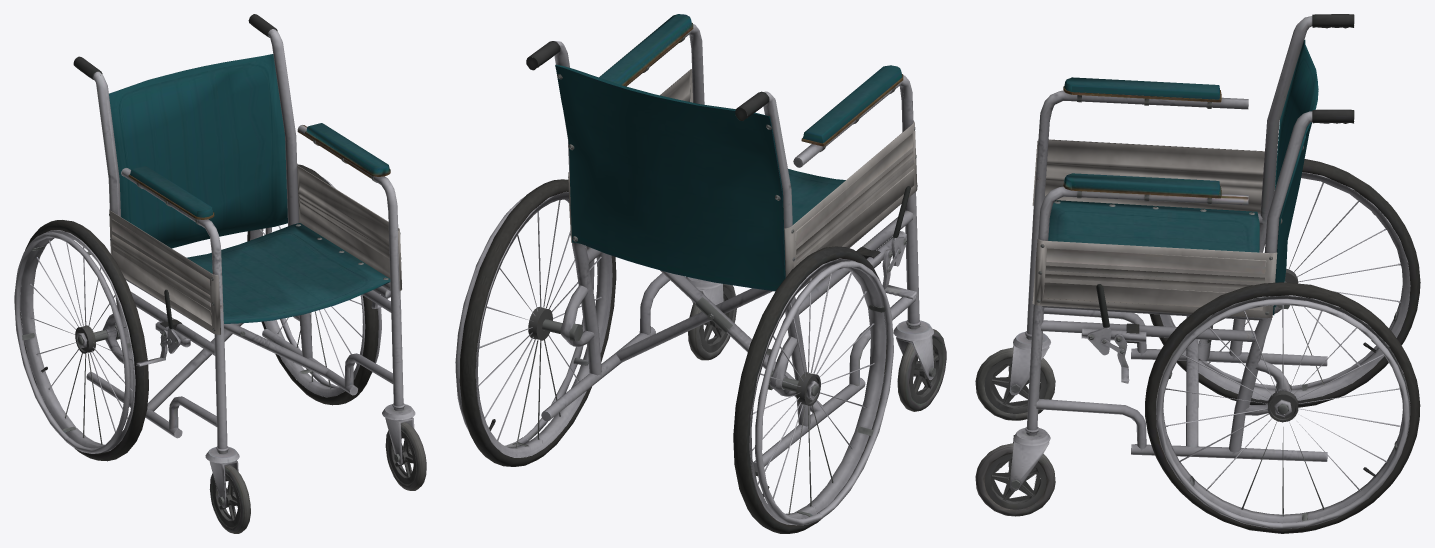
The model's file is wheelchair_01.glb.
3 views of the same model, side by side, from view 1: azimuth 30°, elevation 25°; view 2: azimuth 150°, elevation 25°; view 3: azimuth 270°, elevation 25° (orthographic). The views are drawn at different scales.
Visible parts, largest first — view 1: wheelchair_01; view 2: wheelchair_01; view 3: wheelchair_01.
Part boxes in pixels (x1,y1,x2,y2): wheelchair_01: (14, 14, 426, 533); wheelchair_01: (455, 14, 946, 533); wheelchair_01: (975, 14, 1420, 533).
Bounding box in the file's own units: 0.8242 × 1.1 × 1.09.
1 material, 1 textured.
